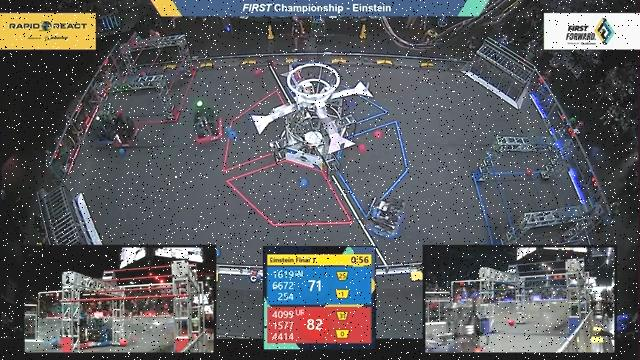Robot: (364, 190, 410, 241), (188, 97, 229, 144), (110, 108, 144, 149), (97, 107, 120, 151)
